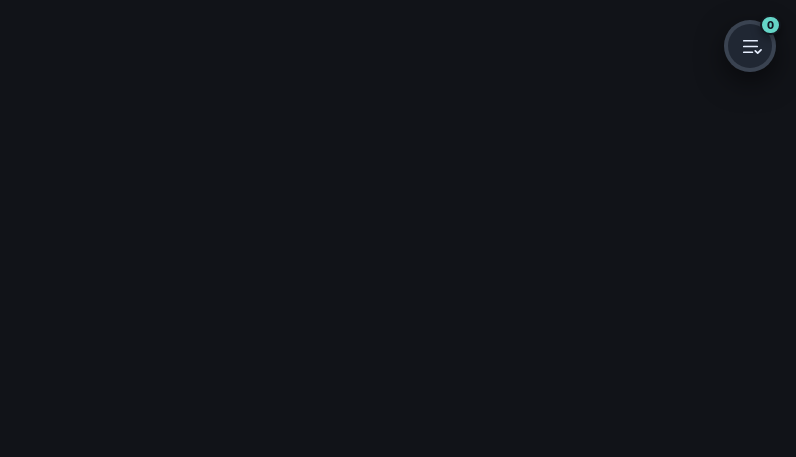
Scenario: shows own queue actions and acquisition feedback without global controls or requests
The image size is (796, 457).
Click the button named "Open scans queue and history" at x=750, y=46, box [724, 20, 776, 72]
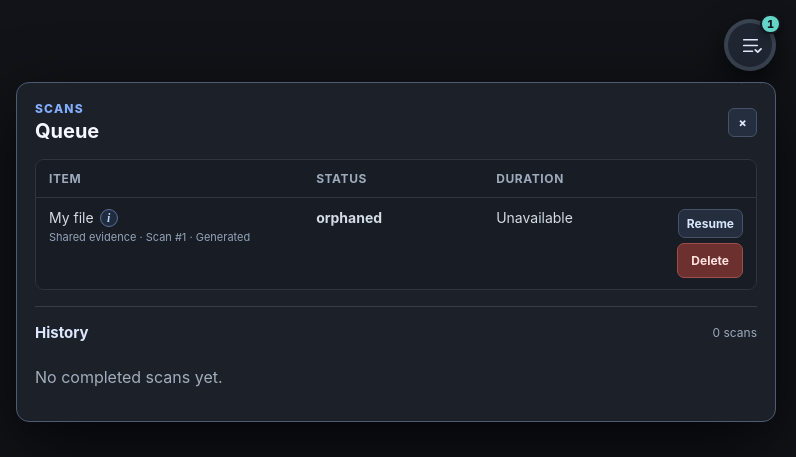
Expected: the text "My file" is shown, [49, 209, 94, 226]
Expected: the button "Resume" is shown, [678, 209, 743, 238]
Expected: the button "Delete" is shown, [677, 243, 743, 278]
